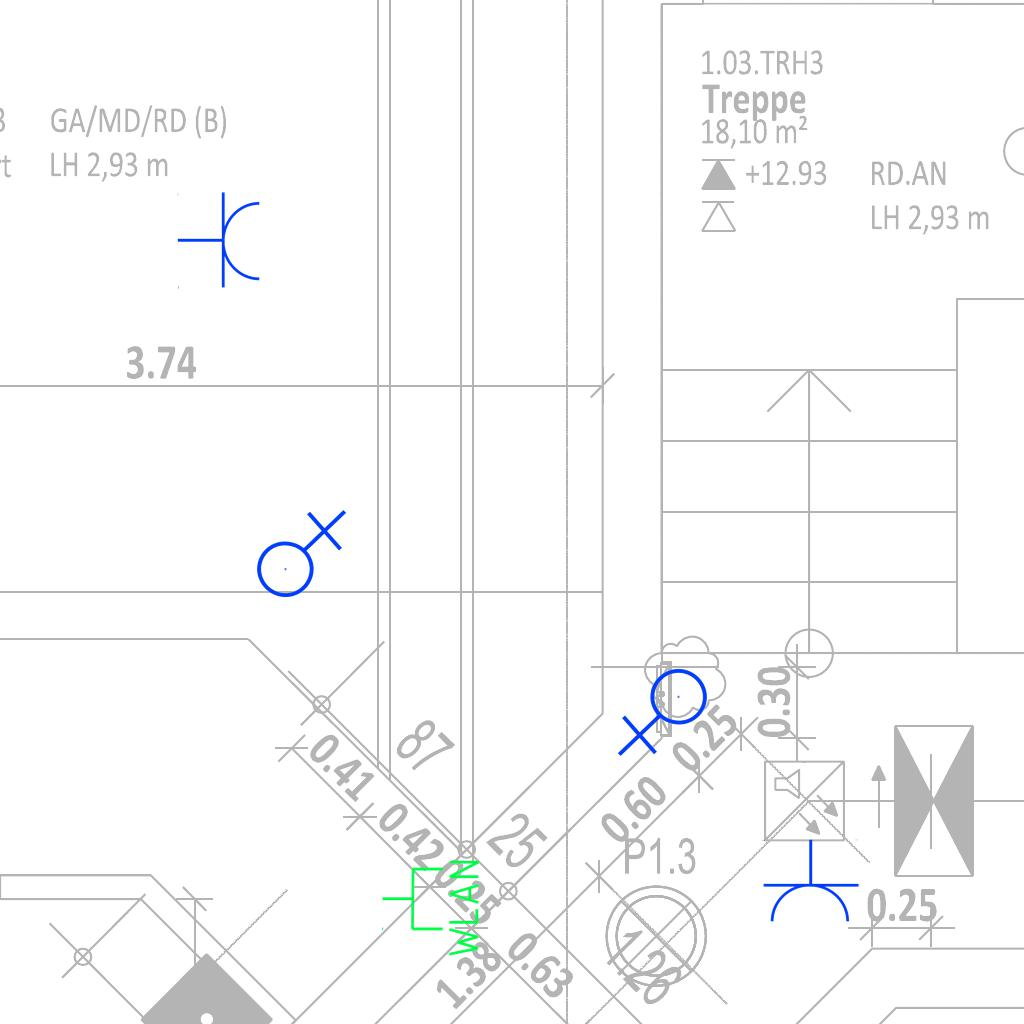Elektroanschluss_allgemein_230V_Geraeteanschlussdose_230V: (617, 667, 716, 761), (248, 505, 347, 599)
Schukosteckdose_einfach: (177, 191, 264, 291), (760, 839, 860, 926)
WLAN: (379, 856, 483, 961)
